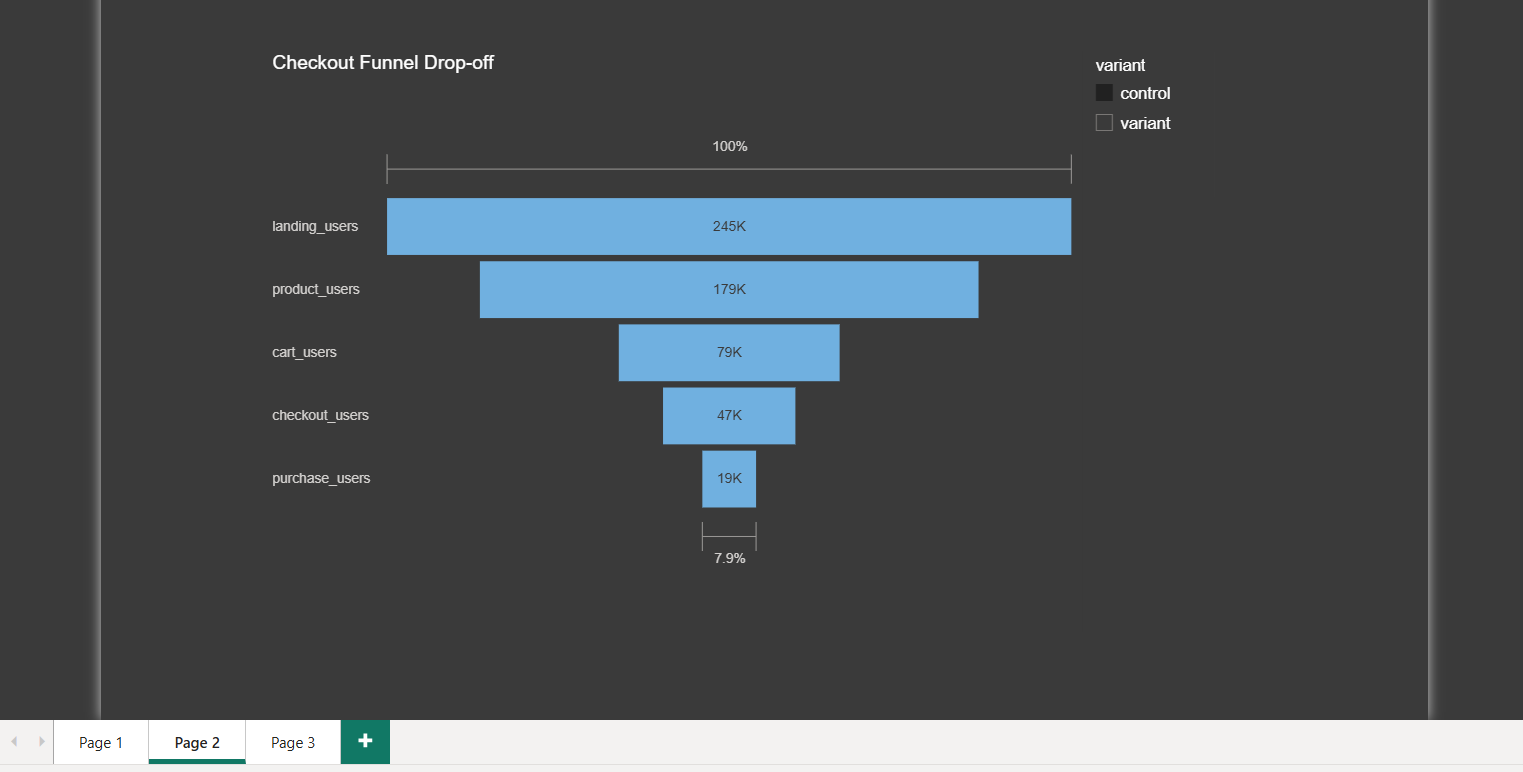

Layout of this report page (visuals, bound fields, positions):
{"tool":"powerbi","page":{"name":"Page 2","canvas":[1280,720],"ordinal":1},"visuals":[{"type":"funnel","title":"Checkout Funnel Drop-off","fields":{"Category":["funnel_data.Attribute"],"Y":["Sum(funnel_data.Value)"]},"box":[160.2,74.6,786.3,560.1],"z":0},{"type":"slicer","fields":{"Values":["funnel_data.variant"]},"box":[946.5,74.6,128.4,140.6],"z":1000}]}

Visuals, with their boxes on the page's 1280x720 design canvas (x1, y1, x2, y2). These are canvas units, not pixel positions in the 1523x772 screenshot, which may show the page scaled, cropped or inside an application window:
"Checkout Funnel Drop-off" funnel: (x1=160, y1=75, x2=946, y2=635)
slicer - funnel_data.variant: (x1=946, y1=75, x2=1075, y2=215)
